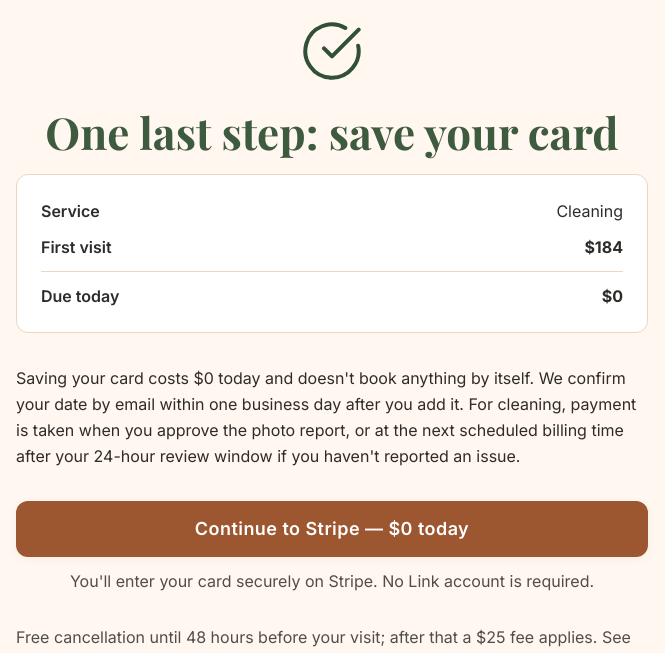
Test: visit cancelled during card setup › shows the cancellation when Continue to Stripe — $0 today is clicked at /thank-you
This screenshot has width=665, height=653.
Click the button "Continue to Stripe — $0 today" at (332, 529), box [16,501,648,557]
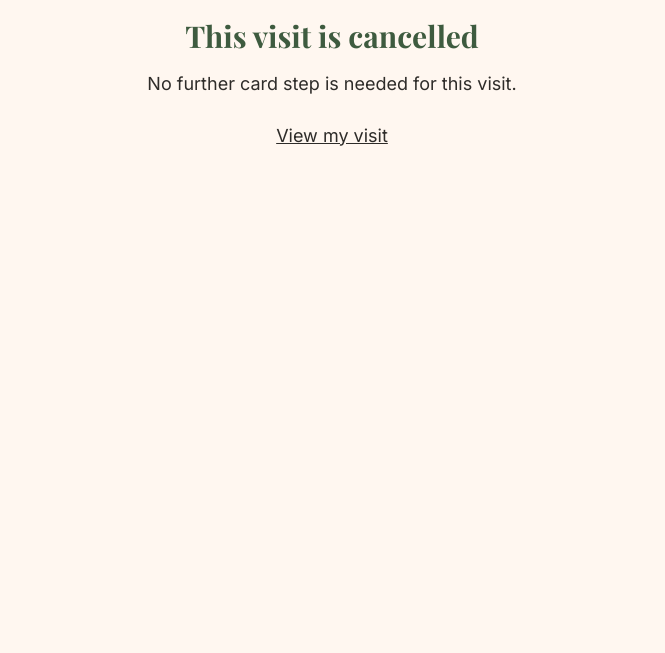
Expected: the heading "This visit is cancelled" is shown, [185,16,479,56]
Expected: the button "Continue to Stripe — $0 today" is gone
